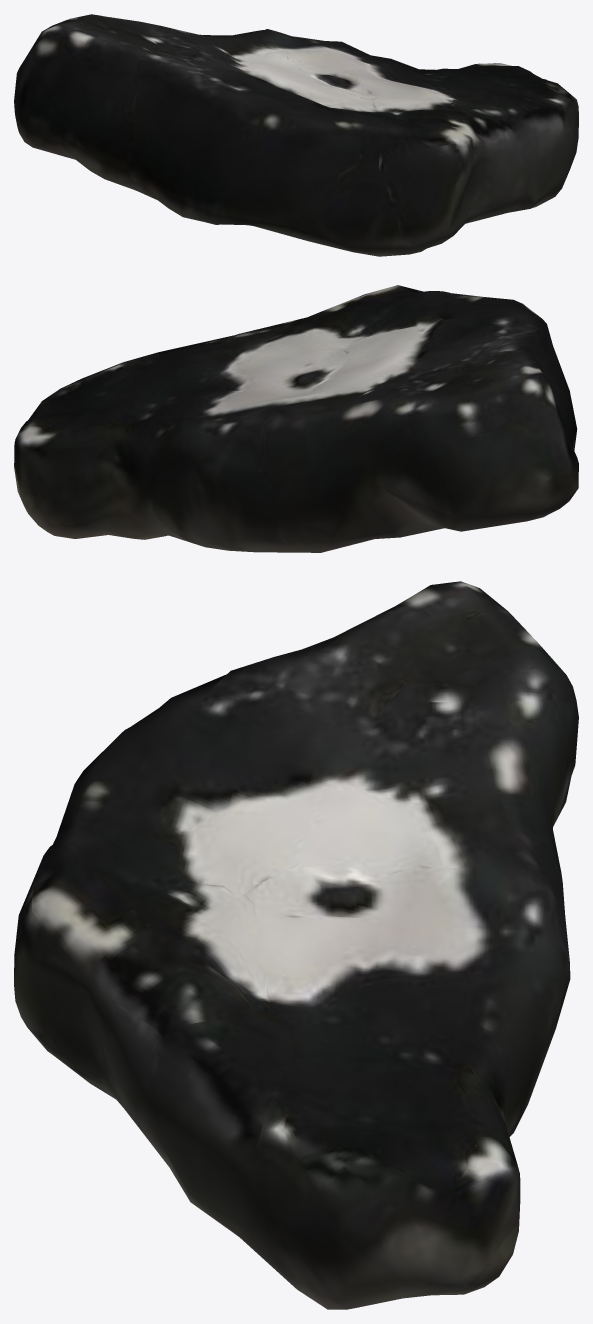
The model's file is hall.glb.
The picture shows the model from 3 angles, top to bottom: view 1: azimuth 30°, elevation 25°; view 2: azimuth 150°, elevation 25°; view 3: azimuth 270°, elevation 25°; orthographic projection. The views are drawn at different scales.
Size of the model in its own units: 0.5075 by 0.2323 by 0.3063.
1 material, 1 textured.
